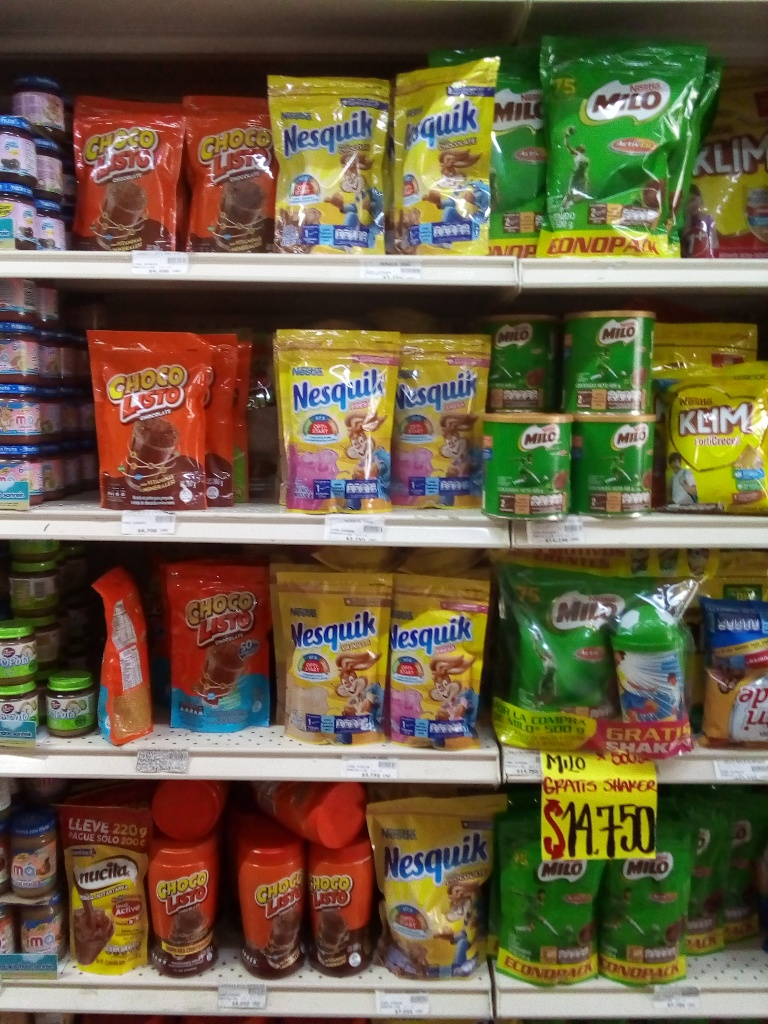COL0170103TRR30000: (311, 836, 375, 976)
COL0170104DYP20000: (168, 565, 274, 736)
COL0170203DYP50000: (544, 34, 707, 258)
COL0170203LAT40000: (573, 408, 661, 519)
COL0170303DYP20000: (391, 52, 493, 254)
COL0170305DYP20000: (392, 576, 492, 748)
COL0170306DYP20000: (275, 572, 388, 749)
